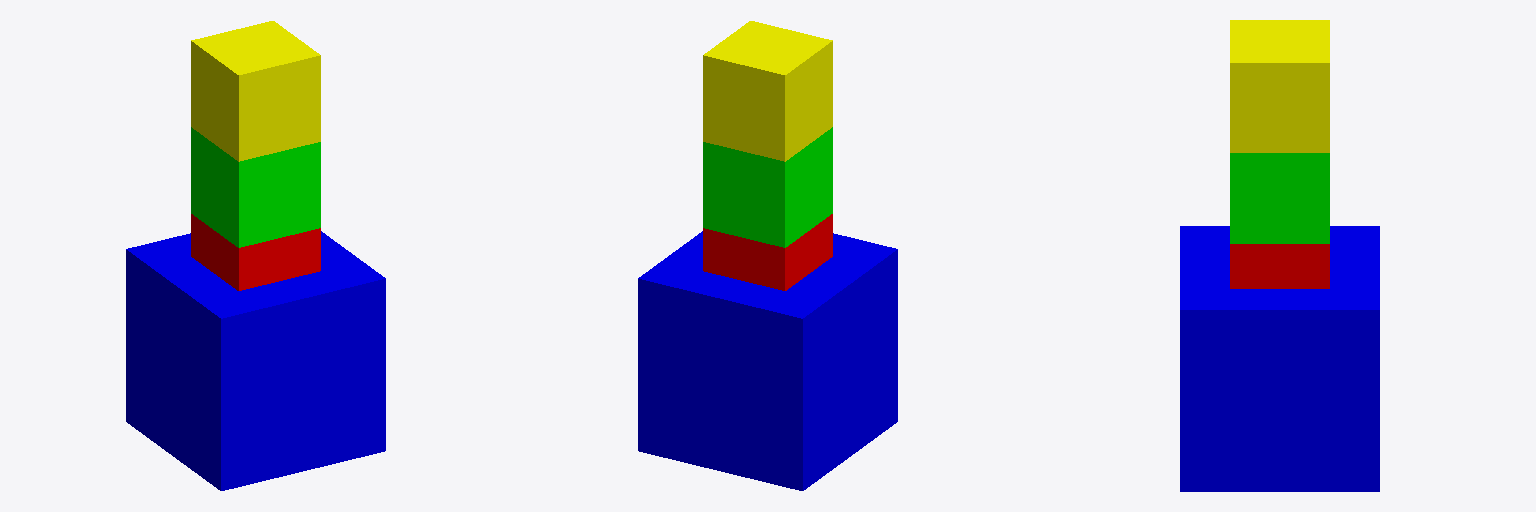
robot.urdf — rotation_example:
<?xml version="1.0"?>
<robot name="rotation_example">
  <!-- Base link -->
  <link name="base_link">
    <visual>
      <geometry>
        <box size="0.2 0.2 0.2" />
      </geometry>
      <material name="blue">
        <color rgba="0 0 1 1"/>
      </material>
    </visual>
  </link>

  <!-- Link for Roll -->
  <link name="roll_link">
    <visual>
      <geometry>
        <box size="0.1 0.1 0.1" />
      </geometry>
      <material name="red">
        <color rgba="1 0 0 1"/>
      </material>
    </visual>
  </link>

  <!-- Link for Pitch -->
  <link name="pitch_link">
    <visual>
      <geometry>
        <box size="0.1 0.1 0.1" />
      </geometry>
      <material name="green">
        <color rgba="0 1 0 1"/>
      </material>
    </visual>
  </link>

  <!-- Link for Yaw -->
  <link name="yaw_link">
    <visual>
      <geometry>
        <box size="0.1 0.1 0.1" />
      </geometry>
      <material name="yellow">
        <color rgba="1 1 0 1"/>
      </material>
    </visual>
  </link>

  <!-- Joint for rotation around X-axis (Roll) -->
  <joint name="roll_joint" type="continuous">
    <parent link="base_link"/>
    <child link="roll_link"/>
    <origin xyz="0 0 0.1" rpy="0 0 0"/>
    <axis xyz="1 0 0"/> <!-- Rotation around X-axis -->
  </joint>

  <!-- Joint for rotation around Y-axis (Pitch) -->
  <joint name="pitch_joint" type="continuous">
    <parent link="roll_link"/>
    <child link="pitch_link"/>
    <origin xyz="0 0 0.1" rpy="0 0 0"/>
    <axis xyz="0 1 0"/> <!-- Rotation around Y-axis -->
  </joint>

  <!-- Joint for rotation around Z-axis (Yaw) -->
  <joint name="yaw_joint" type="continuous">
    <parent link="pitch_link"/>
    <child link="yaw_link"/>
    <origin xyz="0 0 0.1" rpy="0 0 0"/>
    <axis xyz="0 0 1"/> <!-- Rotation around Z-axis -->
  </joint>
</robot>

--- Facts derived from the render (not from the file) ---
3 views of the same robot in one strip: view 1: azimuth 30°, elevation 25°; view 2: azimuth 150°, elevation 25°; view 3: azimuth 270°, elevation 25° (orthographic).
Model rotation_example with 4 links and 3 joints (3 continuous), rooted at base_link, posed all joints at 0.
Links seen in each view (by area): view 1: base_link, yaw_link, pitch_link, roll_link; view 2: base_link, yaw_link, pitch_link, roll_link; view 3: base_link, yaw_link, pitch_link, roll_link.
Boxes of the visible links, x1,y1,x2,y2 form: base_link: [126, 231, 385, 490]; yaw_link: [191, 21, 320, 161]; pitch_link: [191, 127, 320, 247]; roll_link: [191, 214, 320, 290]; base_link: [638, 231, 897, 490]; yaw_link: [703, 21, 832, 161]; pitch_link: [703, 127, 832, 247]; roll_link: [703, 214, 832, 290]; base_link: [1180, 226, 1379, 491]; yaw_link: [1230, 20, 1329, 152]; pitch_link: [1230, 153, 1329, 243]; roll_link: [1230, 244, 1329, 288].
Bounding box of the posed robot: 0.2 × 0.2 × 0.45 m (x, y, z).
Geometry: primitives only (box / cylinder / sphere), no mesh files.